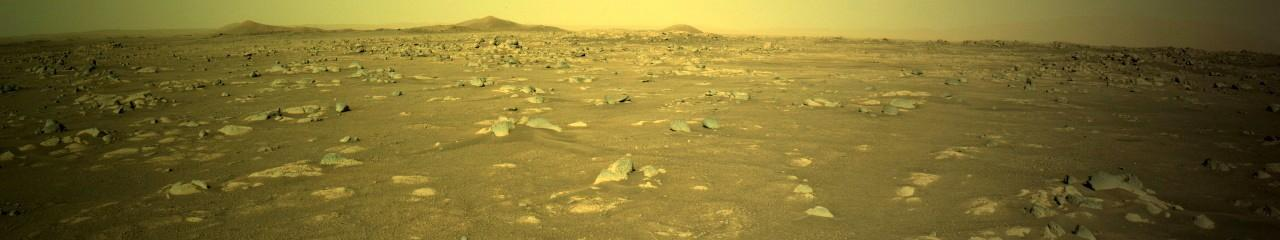bedrock: (0, 31, 1279, 239)
